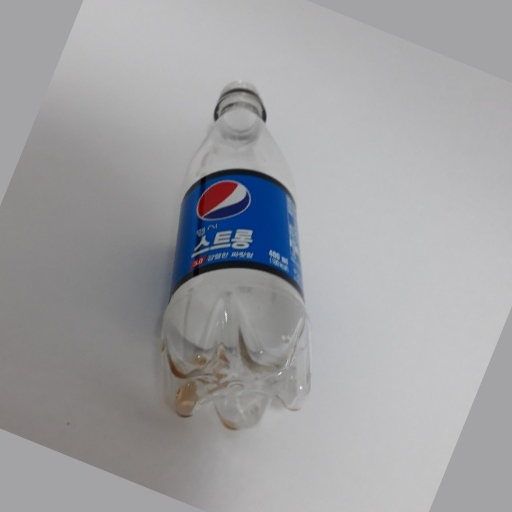Plastic_0: (157, 77, 320, 437)
